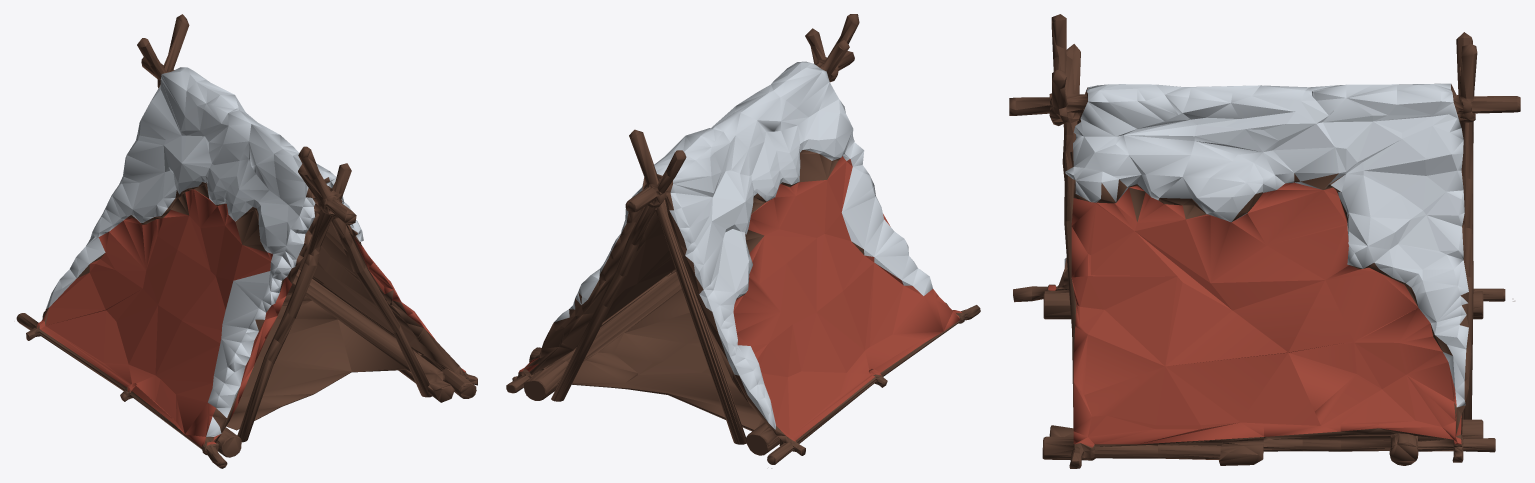
File: shelter_flat.glb
3 views of the same model, side by side, from view 1: azimuth 30°, elevation 25°; view 2: azimuth 150°, elevation 25°; view 3: azimuth 270°, elevation 25° (orthographic). The views are drawn at different scales.
Parts seen in each view (by area): view 1: material; view 2: material; view 3: material.
Boxes of the visible parts, box(x1,y1,x2,y2) form: material: box(16, 14, 477, 468); material: box(506, 14, 980, 468); material: box(1009, 14, 1520, 468).
Size of the model in its own units: 1.71 by 1.6 by 2.12.
